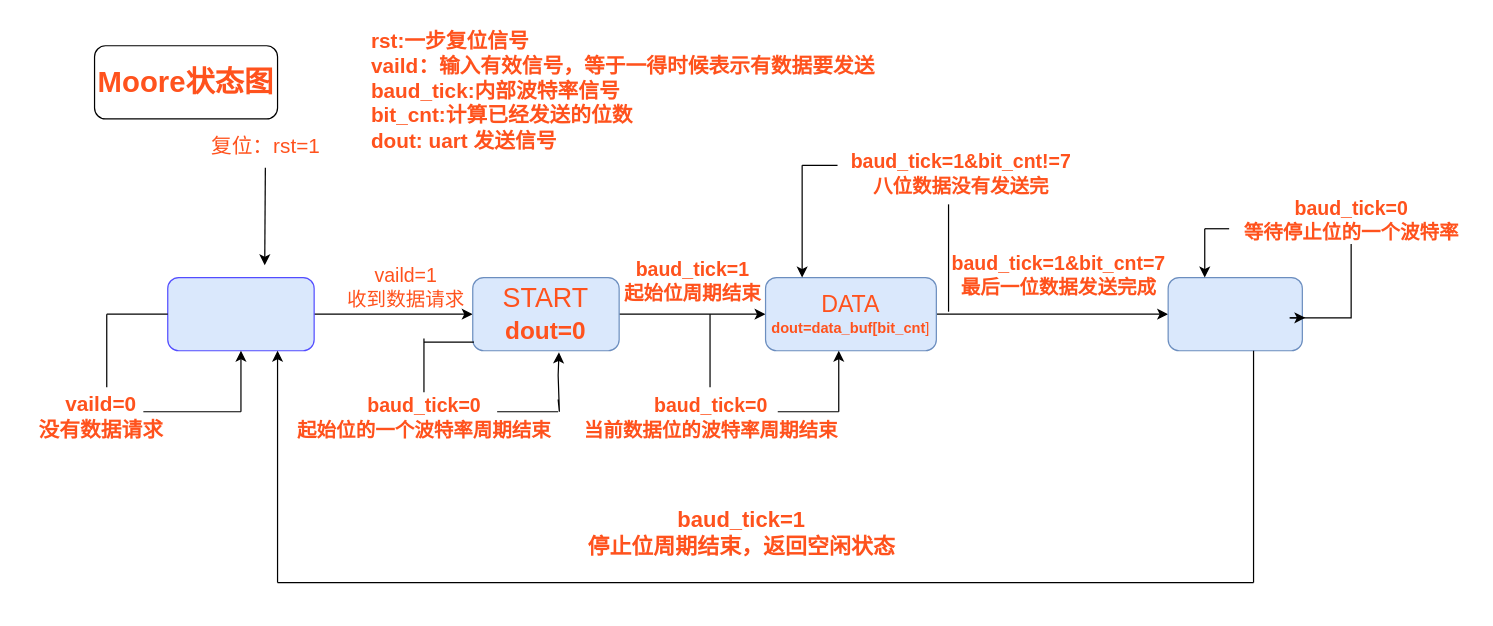
The diagram is 1493 pixels wide and 626 high, and some of its shapes have lost their labels. The shapes that lost their labels are listed below. From the top down, each one's box as (x1, y1, x2, y2) in pixels, then its label:
(167, 276, 314, 351): IDLE dout=1
(1167, 276, 1302, 351): STOP dout=1
